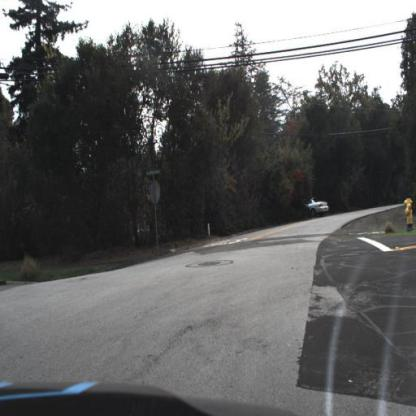car: (305, 186, 338, 218), (309, 196, 332, 215)
